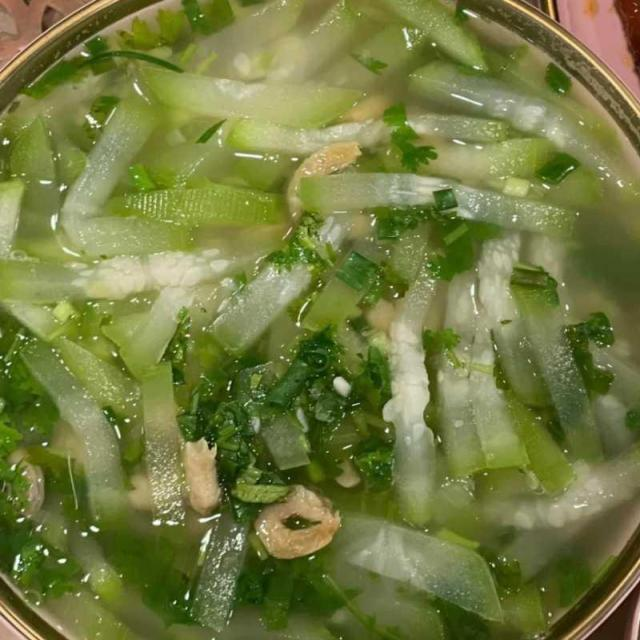canh bau: (0, 0, 639, 639)
